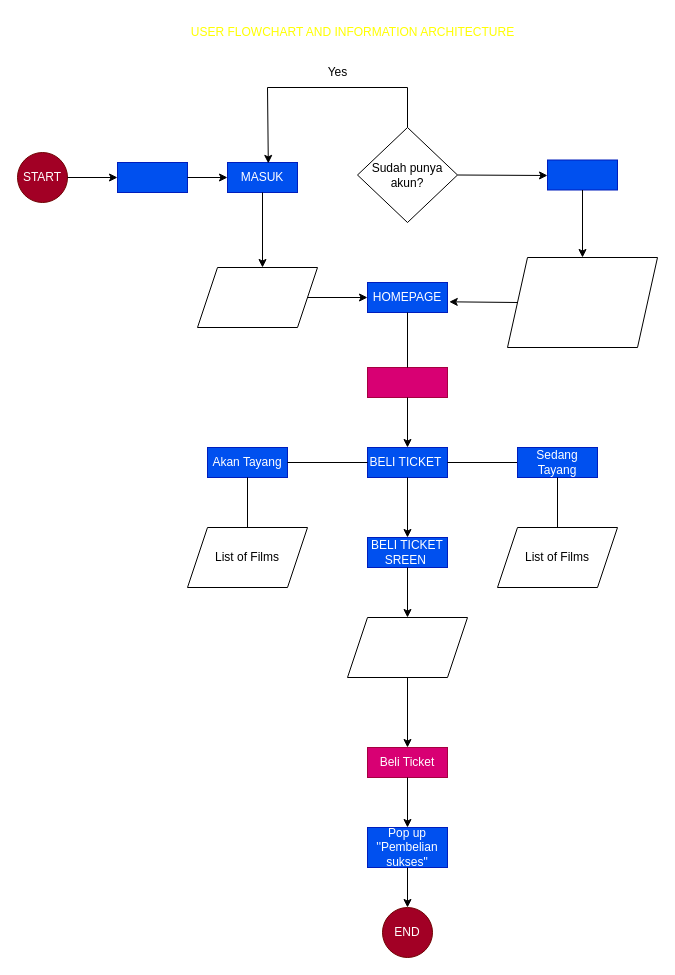
Some shapes in this 675 by 975 pixel diagram are drawn without their labels. Here are the shapes that lost their labels. From the top down, the box of each, then its label:
(116, 162, 188, 192): SPLASH SCREEN
(546, 159, 618, 190): DAFTAR
(196, 266, 318, 328): - Username - Password
(506, 256, 658, 348): Username Email Password Ulangi Password
(366, 366, 448, 398): Detail Film
(346, 616, 468, 678): - Tanggal Nonton - Jam - Bioskop
